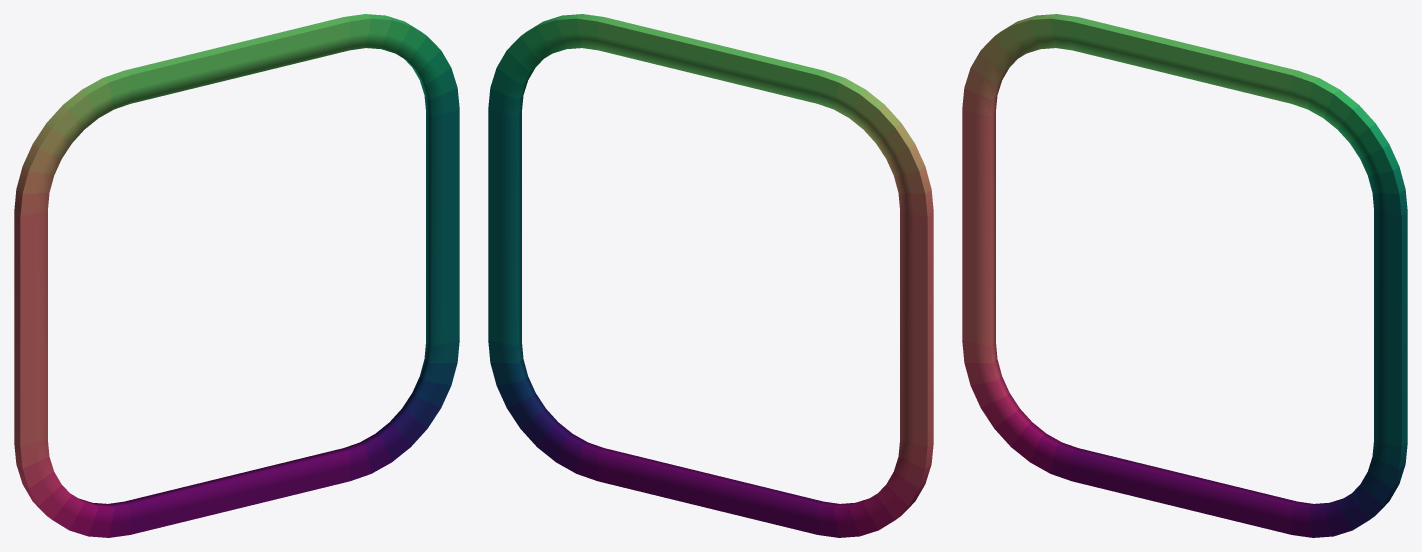
Rendered from SM_RoundedCornerBorder.glb.
3 renders of one model, left to right at view 1: azimuth 30°, elevation 25°; view 2: azimuth 150°, elevation 25°; view 3: azimuth 330°, elevation 25°, orthographic.
Visible parts, largest first — view 1: MDL_RoundedCornerPanel__5_.001; view 2: MDL_RoundedCornerPanel__5_.001; view 3: MDL_RoundedCornerPanel__5_.001.
Boxes of the visible parts, x1,y1,x2,y2 form: MDL_RoundedCornerPanel__5_.001: (14, 14, 459, 537); MDL_RoundedCornerPanel__5_.001: (488, 14, 933, 537); MDL_RoundedCornerPanel__5_.001: (962, 14, 1407, 537).
Bounding box in the file's own units: 1 × 1 × 0.0247.
